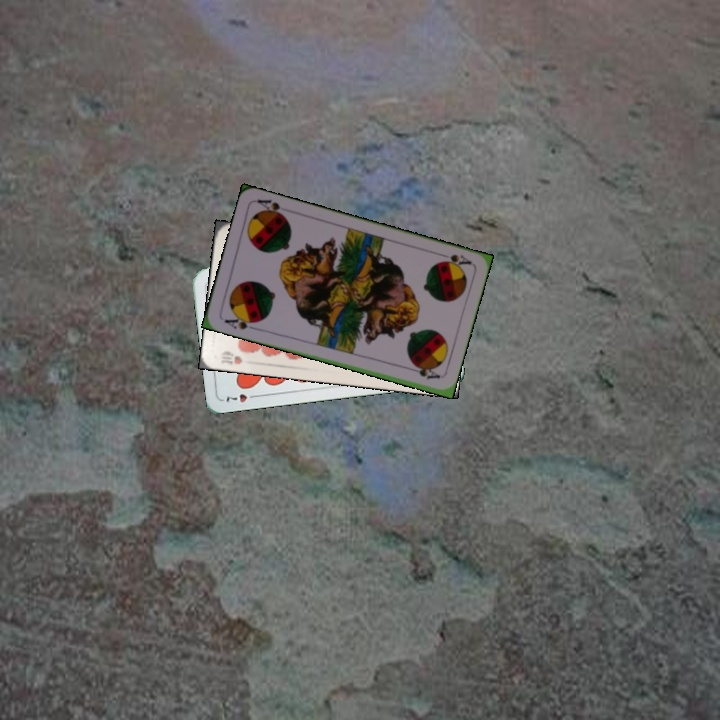H10: (217, 346, 245, 367)
H7: (220, 390, 261, 405)
SA: (220, 311, 261, 333), (434, 249, 474, 271)
